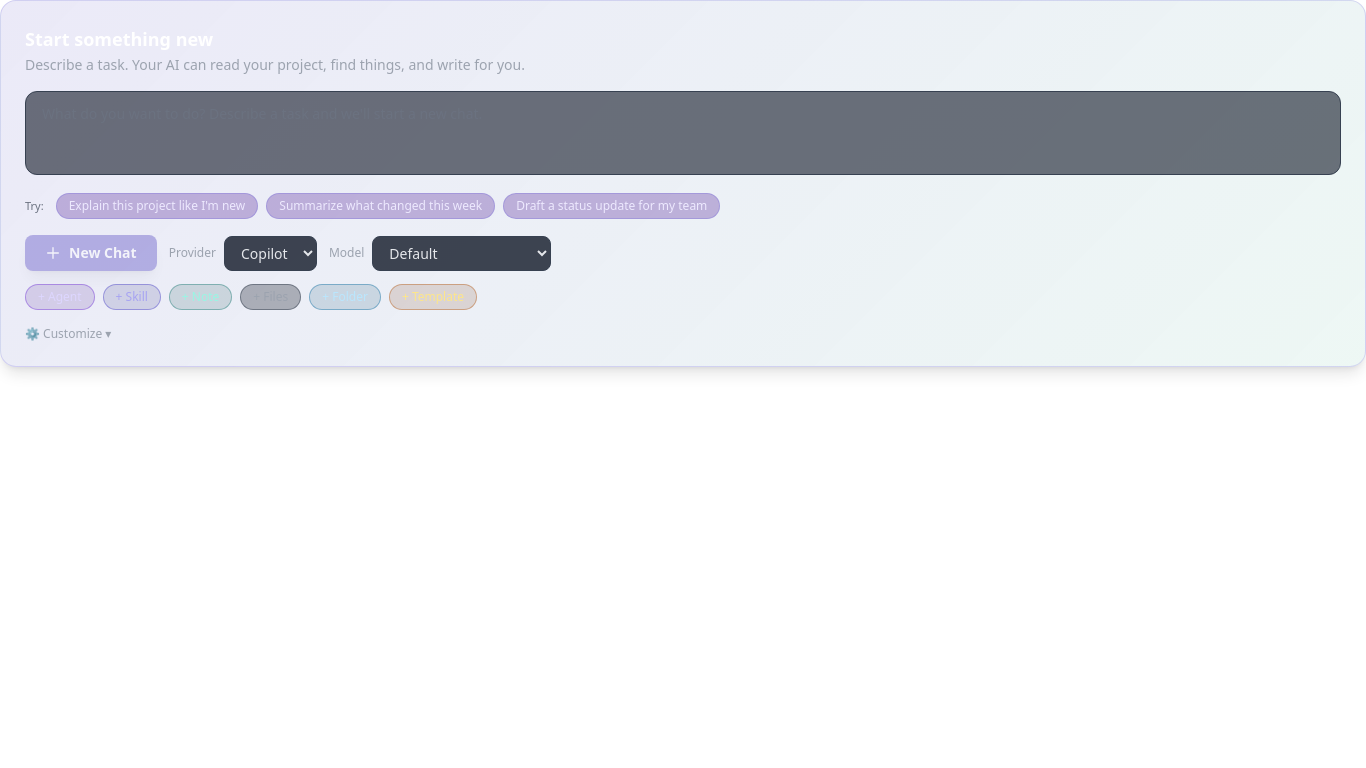
Test: QuickStartCard › reveals the agent picker when the Agent chip is clicked
The image size is (1366, 768).
Click the button with test id "attachment-chip:agent": click(60, 297) x1=25 y1=284 x2=95 y2=310
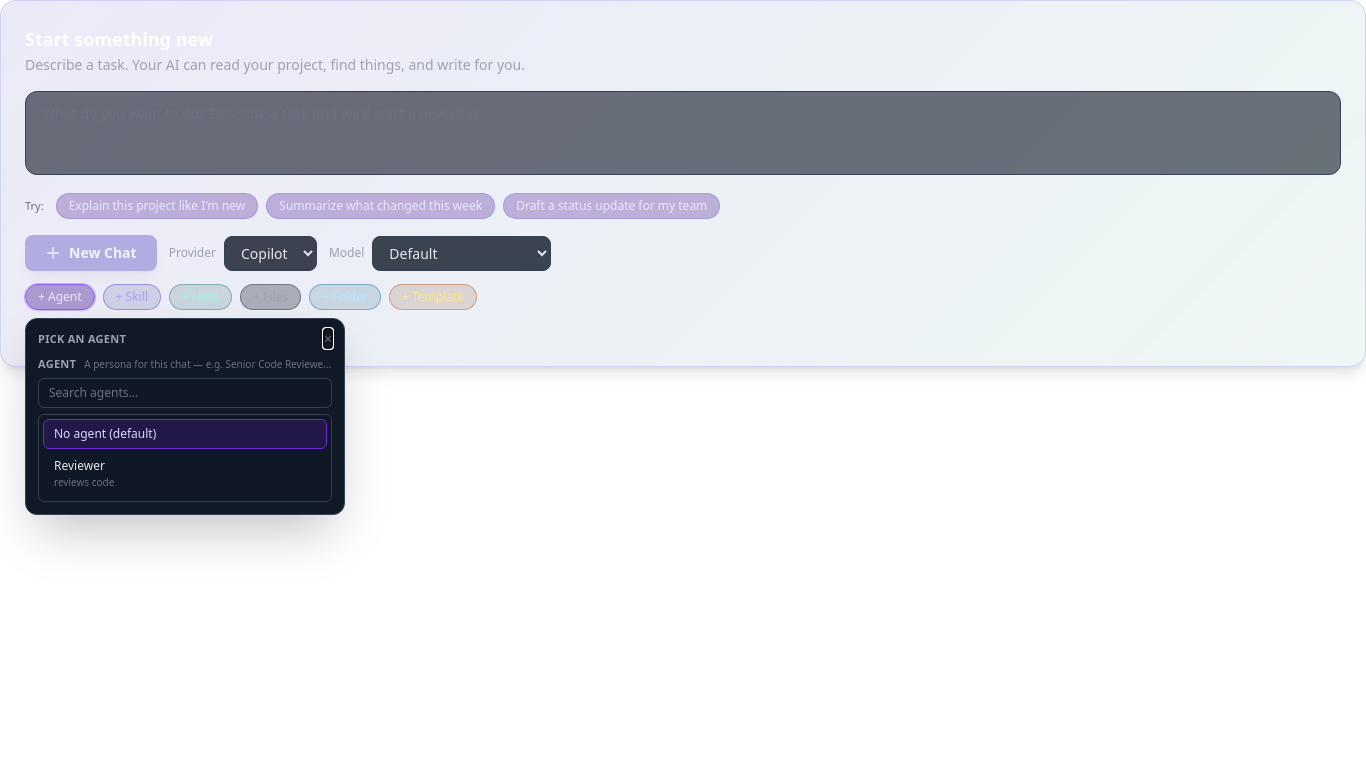
Check: the text "Reviewer" is shown, box x1=54 y1=457 x2=105 y2=474
